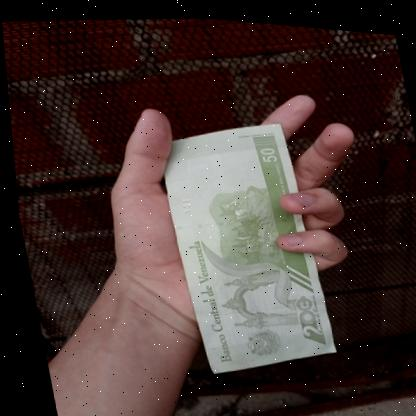fifty-back-vef: (150, 108, 335, 381)
